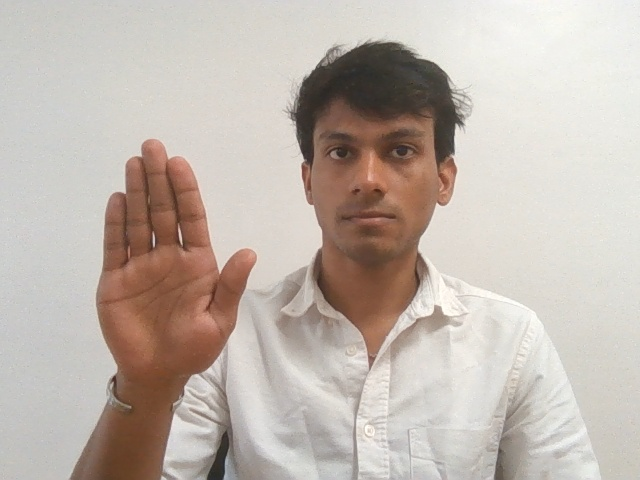Hello: (93, 132, 254, 384)
